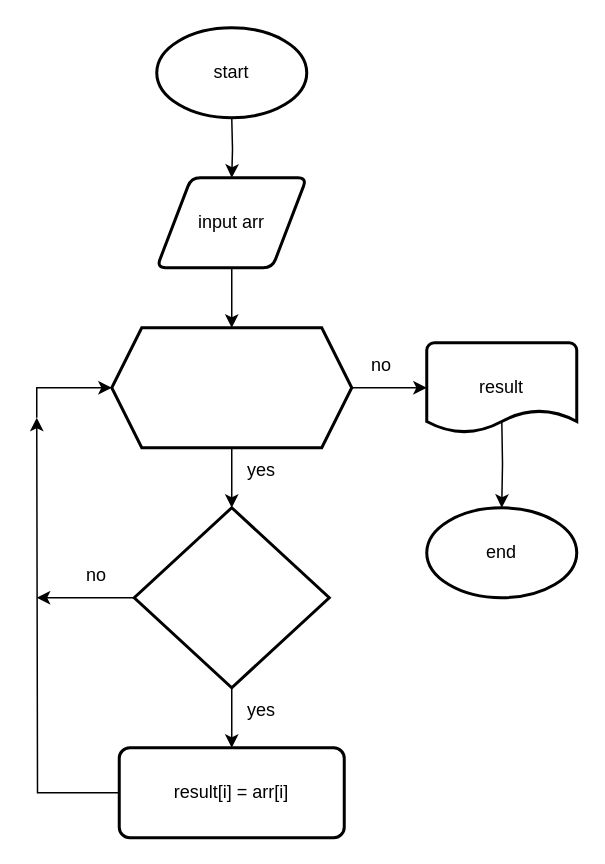
Some shapes in this 605 by 864 pixel diagram are drawn without their labels. The shapes that lost their labels are listed below. From the top down, each one's centre as x and y in pixels, then its label:
the point at 231,387: i = 0; i < arr.Length; i ++
the point at 231,597: arr[i].Length < 4
